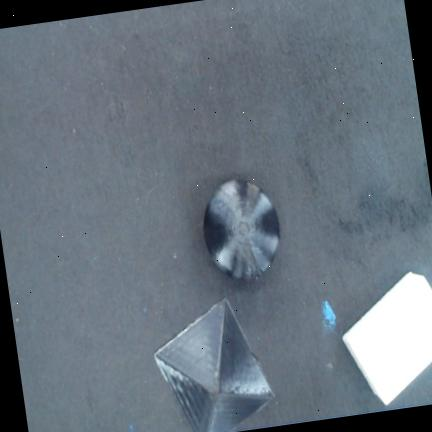Esfera: (203, 179, 280, 277)
Paralelepipedo: (341, 271, 432, 404)
Piramide: (153, 296, 273, 432)
